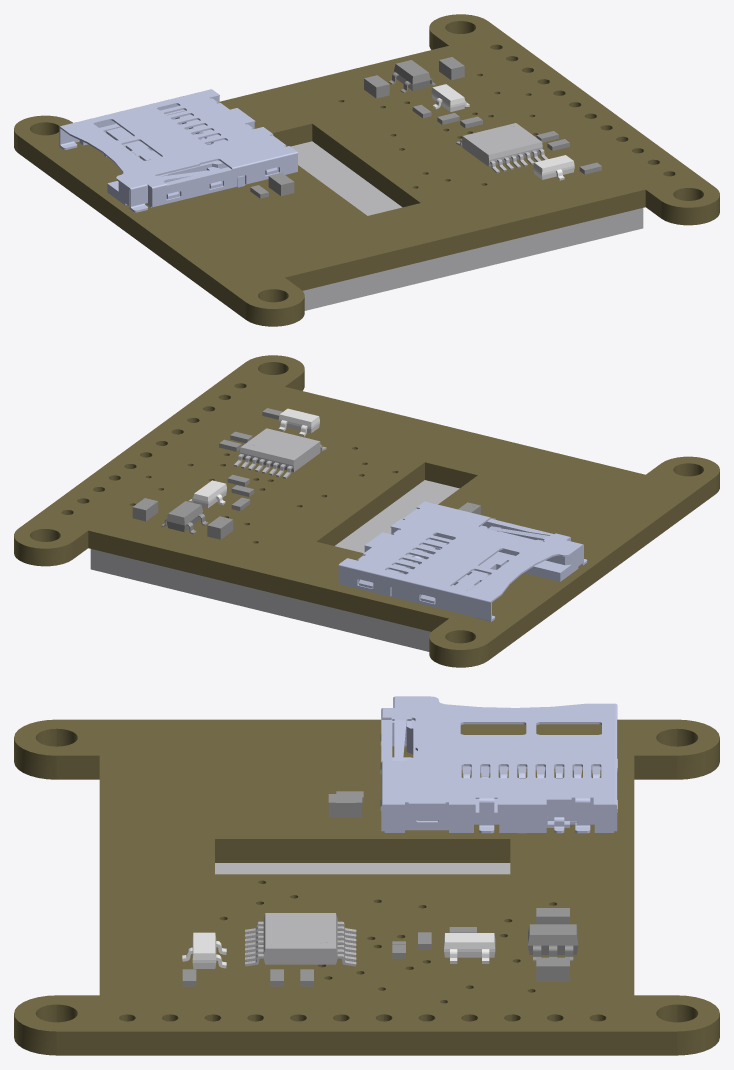
The model's file is ada-3787.glb.
3 views of the same model, one above another, from view 1: azimuth 30°, elevation 25°; view 2: azimuth 150°, elevation 25°; view 3: azimuth 270°, elevation 25° (orthographic). The views are drawn at different scales.
Parts seen in each view (by area): view 1: 0.16666666666666666_0.16666666666666666_0.08333333333333333_, 0.5833333333333334_0.6666666666666666_0.8333333333333334_0, 0.5833333333333334_0.5833333333333334_0.5833333333333334_0.8, 0.3333333333333333_0.3333333333333333_0.3333333333333333_0, 0.9166666666666666_0.9166666666666666_0.9166666666666666_0.8; view 2: 0.16666666666666666_0.16666666666666666_0.08333333333333333_, 0.5833333333333334_0.6666666666666666_0.8333333333333334_0, 0.5833333333333334_0.5833333333333334_0.5833333333333334_0.8, 0.3333333333333333_0.3333333333333333_0.3333333333333333_0, 0.9166666666666666_0.9166666666666666_0.9166666666666666_0.8; view 3: 0.16666666666666666_0.16666666666666666_0.08333333333333333_, 0.5833333333333334_0.6666666666666666_0.8333333333333334_0, 0.5833333333333334_0.5833333333333334_0.5833333333333334_0.8, 0.3333333333333333_0.3333333333333333_0.3333333333333333_0, 0.9166666666666666_0.9166666666666666_0.9166666666666666_0.8.
Boxes of the visible parts, left/top/right/bottom form: 0.16666666666666666_0.16666666666666666_0.08333333333333333_: left=14, top=14, right=719, bottom=326; 0.5833333333333334_0.6666666666666666_0.8333333333333334_0: left=59, top=89, right=297, bottom=212; 0.5833333333333334_0.5833333333333334_0.5833333333333334_0.8: left=290, top=123, right=643, bottom=310; 0.3333333333333333_0.3333333333333333_0.3333333333333333_0: left=250, top=57, right=601, bottom=198; 0.9166666666666666_0.9166666666666666_0.9166666666666666_0.8: left=431, top=84, right=574, bottom=180; 0.16666666666666666_0.16666666666666666_0.08333333333333333_: left=14, top=355, right=719, bottom=667; 0.5833333333333334_0.6666666666666666_0.8333333333333334_0: left=338, top=501, right=587, bottom=621; 0.5833333333333334_0.5833333333333334_0.5833333333333334_0.8: left=90, top=428, right=459, bottom=651; 0.3333333333333333_0.3333333333333333_0.3333333333333333_0: left=132, top=408, right=496, bottom=539; 0.9166666666666666_0.9166666666666666_0.9166666666666666_0.8: left=188, top=408, right=319, bottom=508; 0.16666666666666666_0.16666666666666666_0.08333333333333333_: left=14, top=719, right=719, bottom=1055; 0.5833333333333334_0.6666666666666666_0.8333333333333334_0: left=380, top=696, right=617, bottom=833; 0.5833333333333334_0.5833333333333334_0.5833333333333334_0.8: left=215, top=863, right=510, bottom=966; 0.3333333333333333_0.3333333333333333_0.3333333333333333_0: left=182, top=791, right=578, bottom=986; 0.9166666666666666_0.9166666666666666_0.9166666666666666_0.8: left=182, top=932, right=495, bottom=968.
Size of the model in its own units: 4.38 by 0.535 by 4.19.
